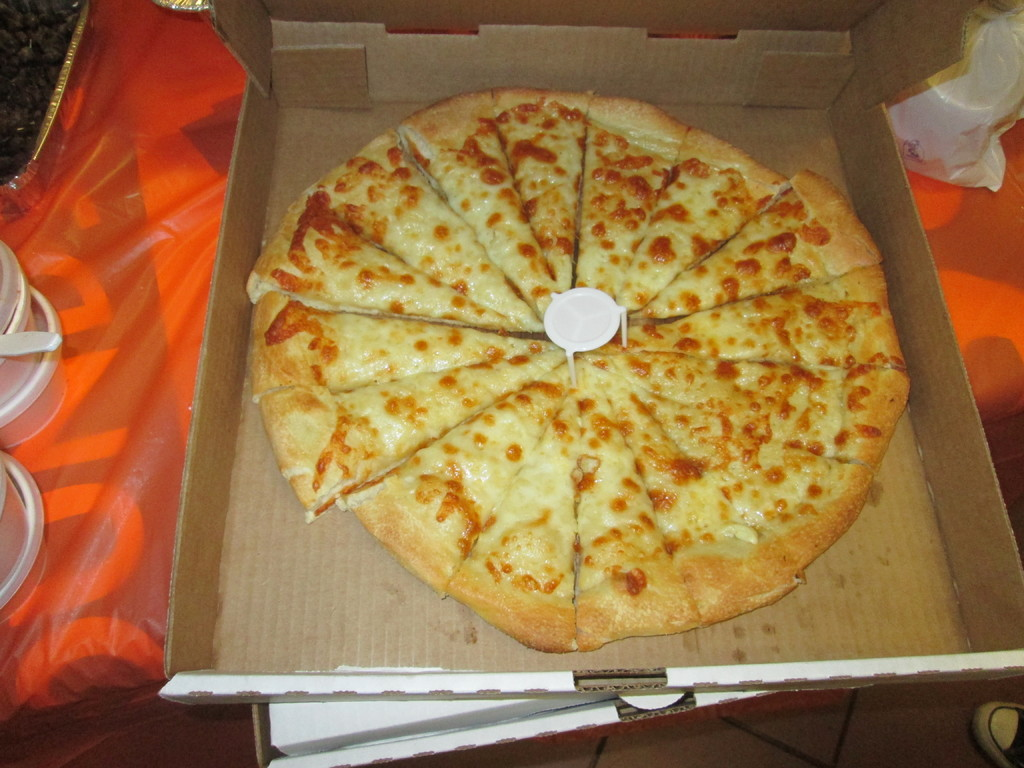Pizza: (255, 94, 926, 642)
